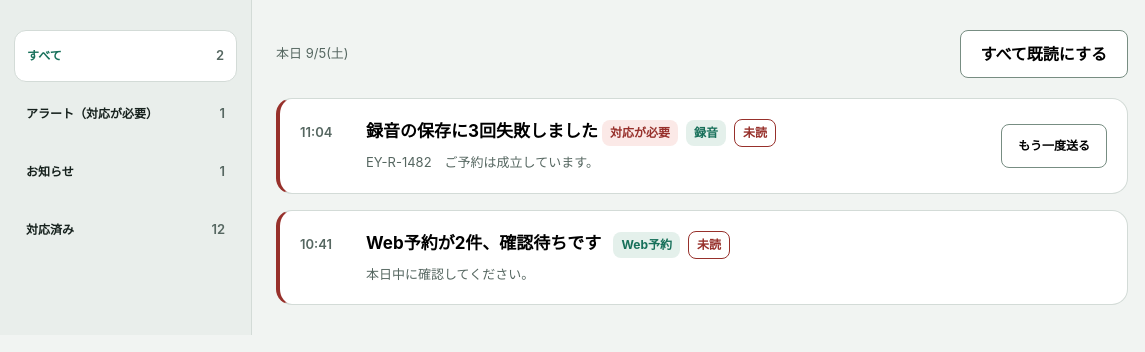
Test: お知らせ画面 › すべて既読にすると再読込し、未読札が消える
Click the button "すべて既読にする" at (1044,54), box [960,30,1128,78]
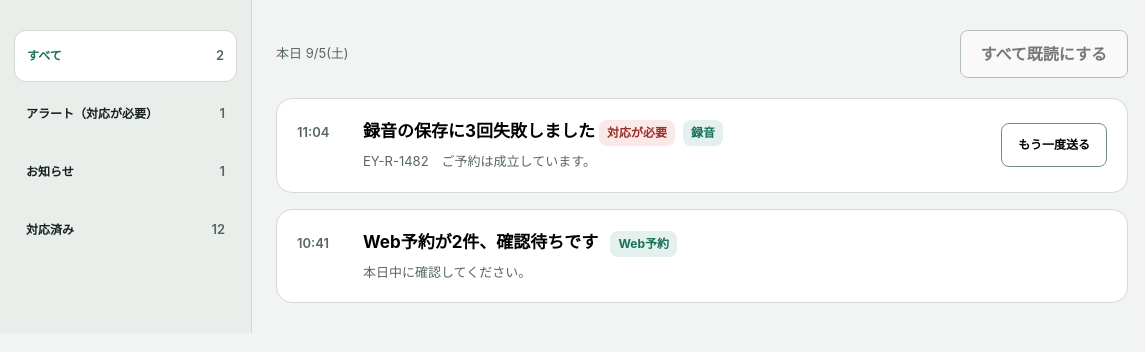
Result: the text "未読" is gone
